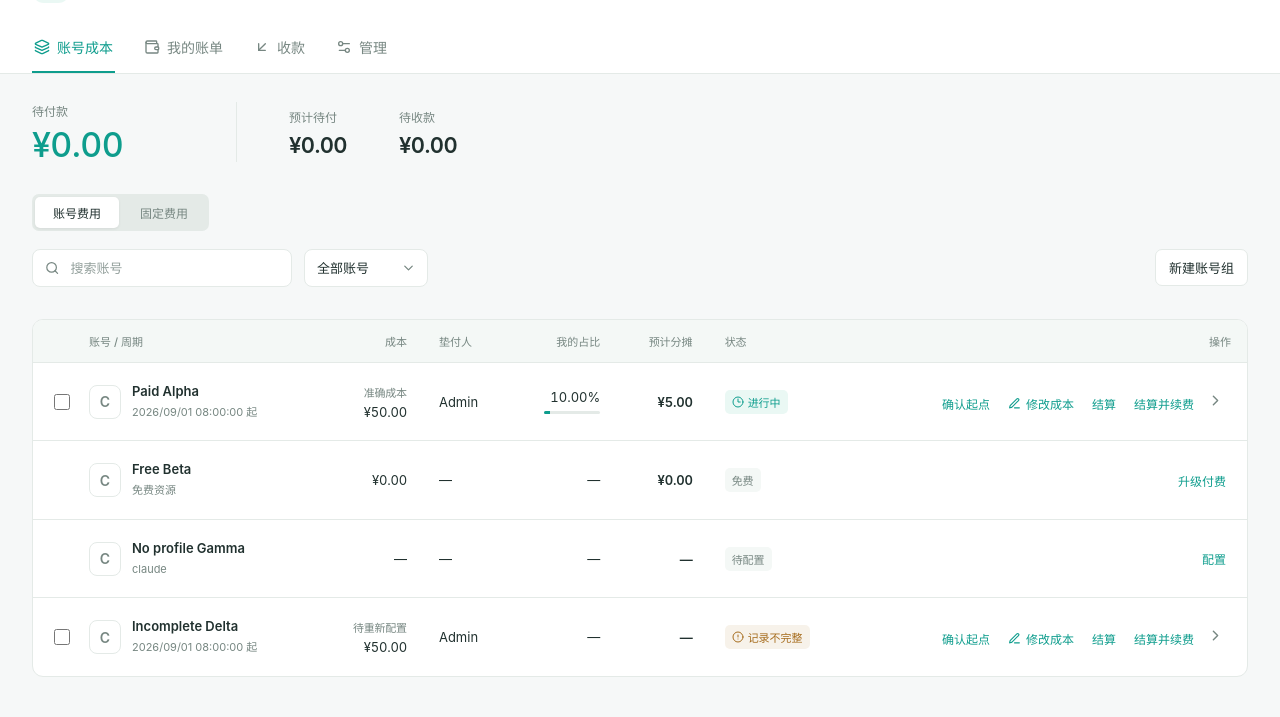
App account visibility › shows the full account roster to admins and exposes batch settlement only for paid-cycle selection
(page scrolled)
Check: the button "升级付费" is shown, box [1173, 464, 1231, 496]
Check: the button "配置" is shown, box [1197, 543, 1231, 574]
Click the checkbox named "选择 Paid Alpha" at (62, 402), box [54, 394, 70, 410]
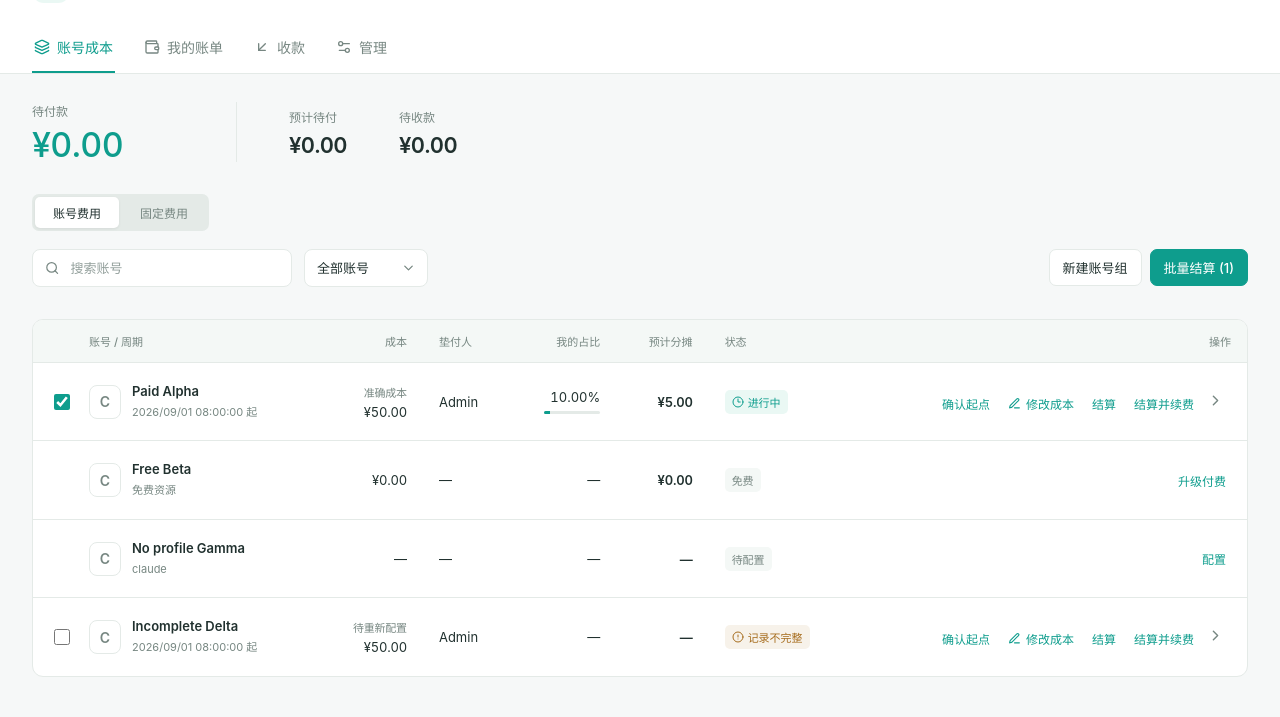
Check: the button "批量结算 (1)" is shown, box [1150, 249, 1248, 286]
